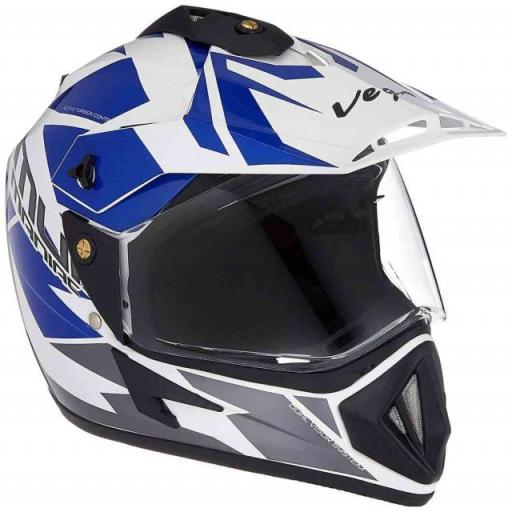Helmet: (7, 8, 501, 504)
